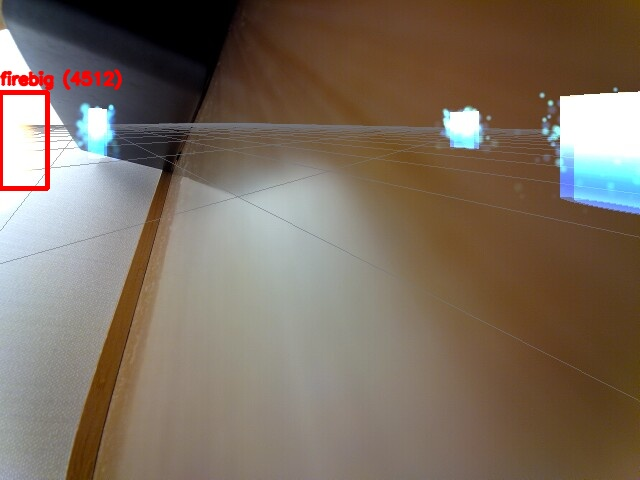firebig: (0, 92, 47, 188)
